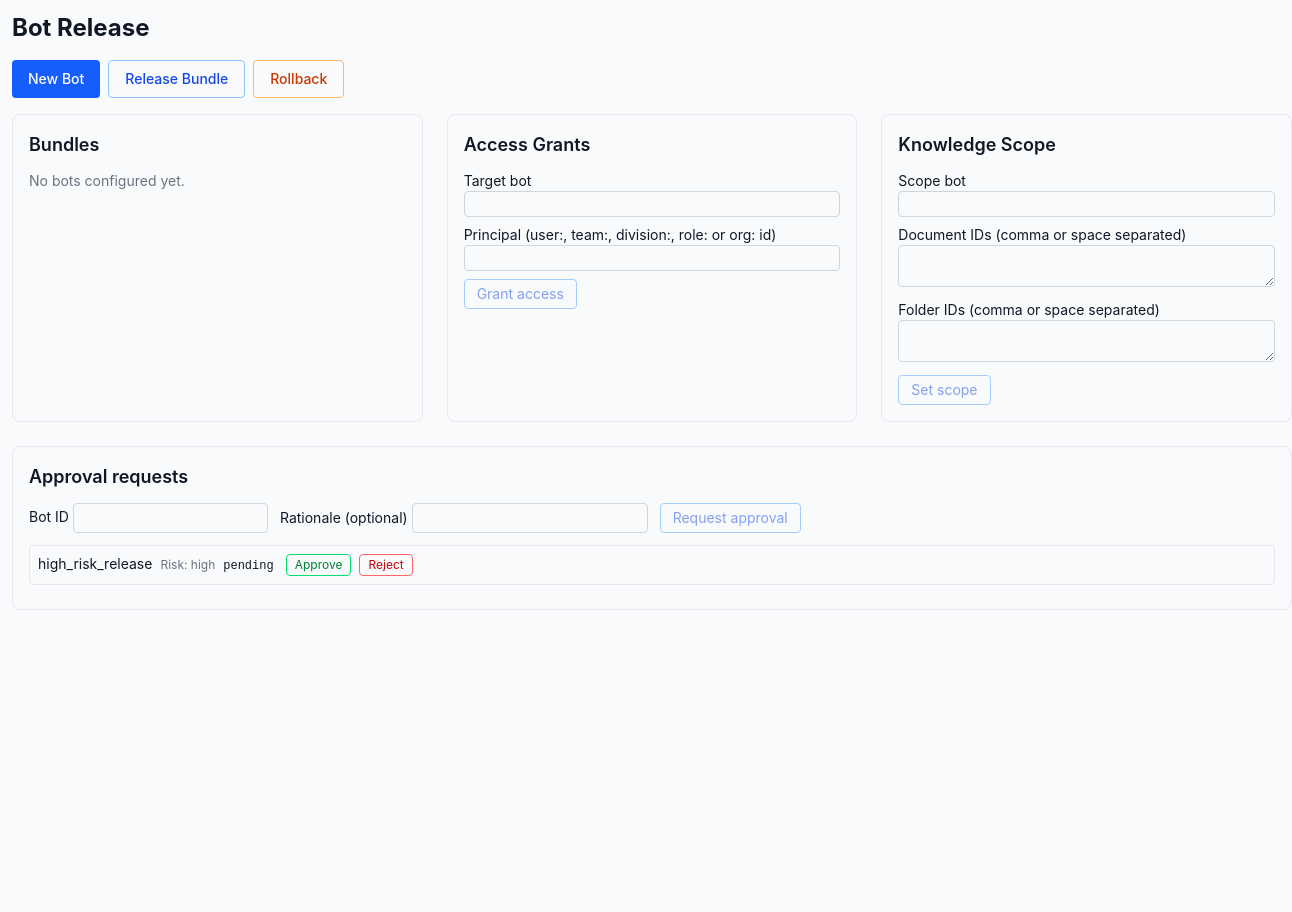
Test case: BotReleaseScreen › shows a generic error without server text when the decision fails
expect the text "high_risk_release" is shown: met, box x1=38 y1=555 x2=152 y2=572
Click the button "Approve". click: (319, 565)
box: x1=286 y1=554 x2=352 y2=576
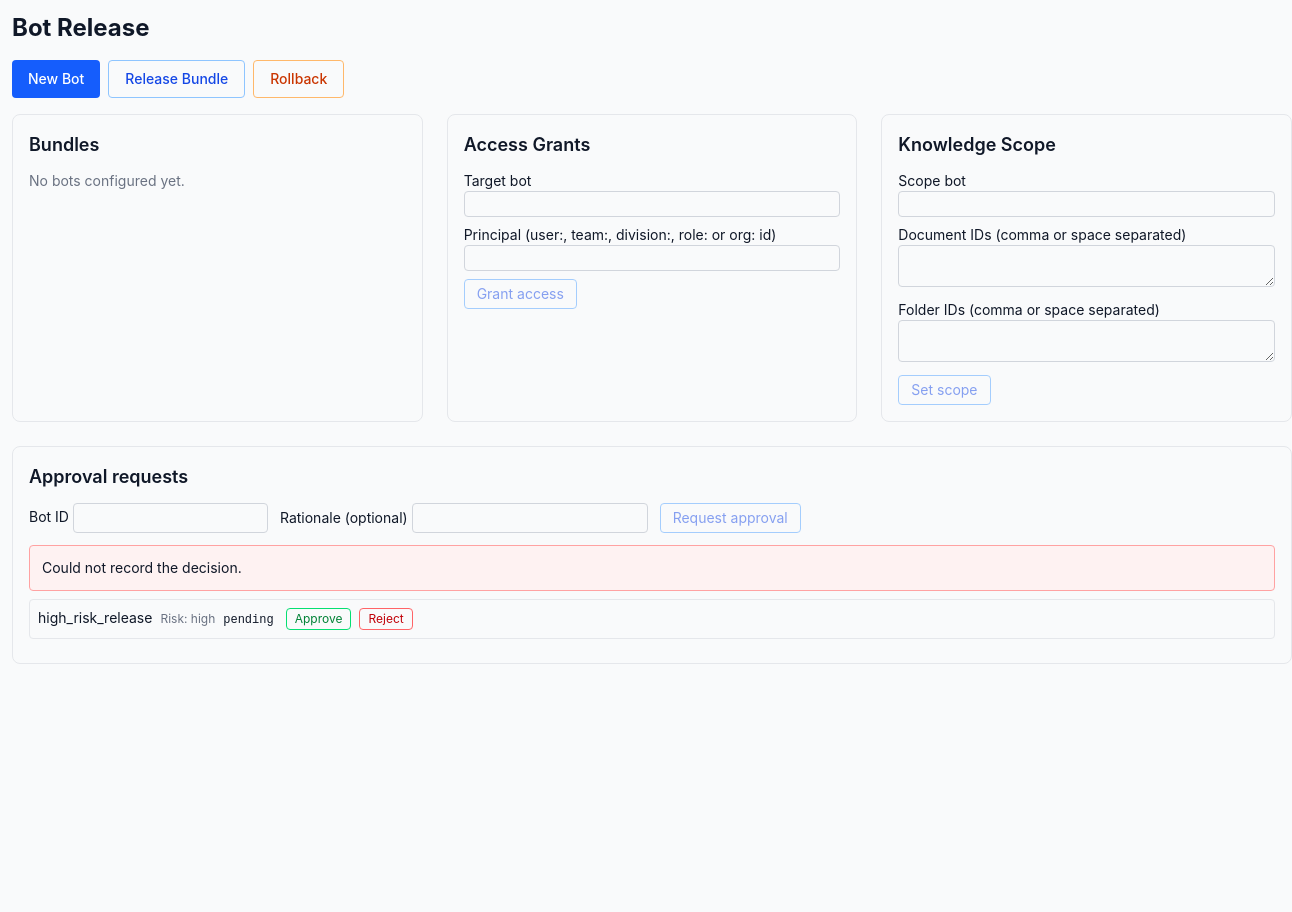
expect the text "Could not record the decision." is shown: met, box x1=29 y1=545 x2=1275 y2=591
